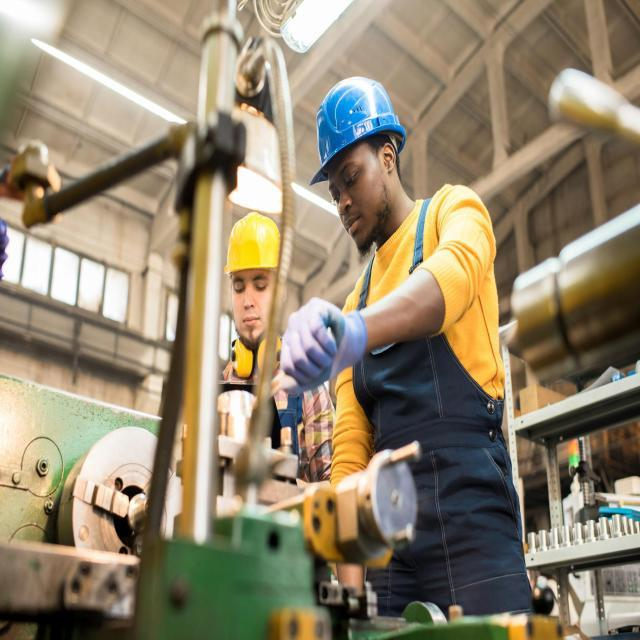safety_helmet: (306, 68, 408, 184), (223, 211, 283, 275)
